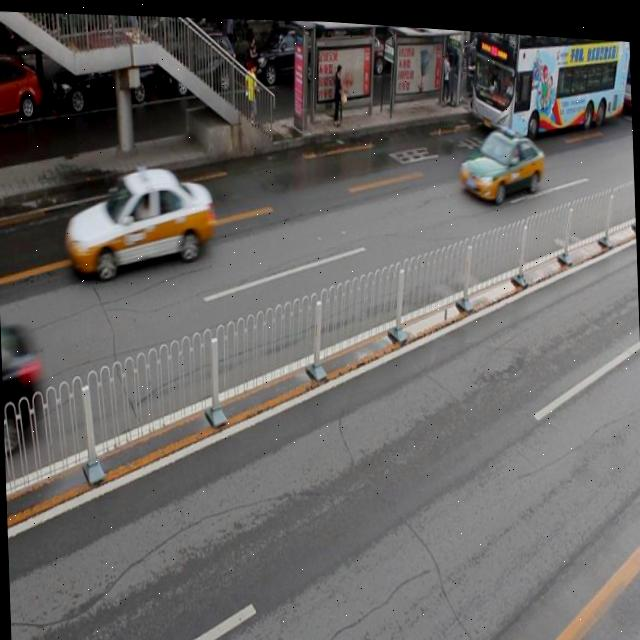car: (64, 159, 214, 280), (46, 32, 152, 114), (456, 116, 544, 201), (158, 22, 236, 99), (240, 17, 320, 88), (0, 313, 35, 457), (0, 57, 39, 132)
van: (464, 24, 631, 140)
